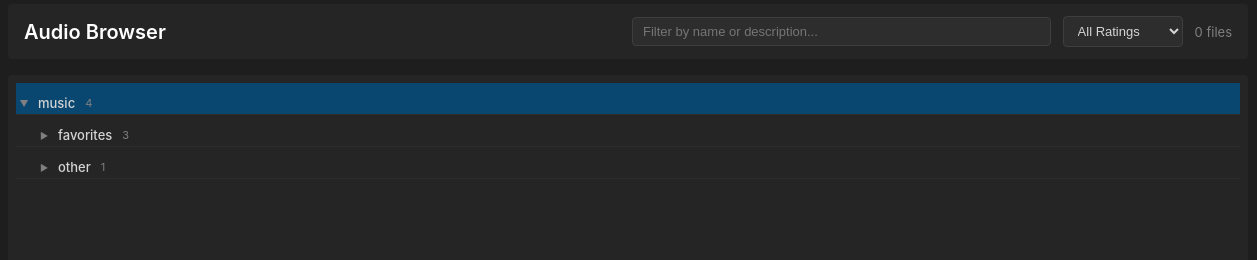
Test: AudioBrowser › shows all contents when folder name matches filter
Expected: the text "music" is shown, [38,96,75,110]
Note: Filter by folder name
In the field with placeholder "Filter by name or description...": (841, 32) [632,17,1051,46], type "favorites"
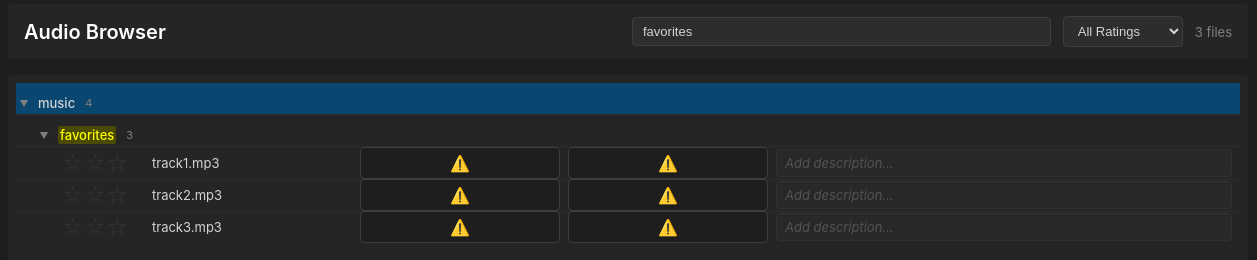
Expected: the text "favorites" is shown, [58,126,116,144]
Result: the text "other" is gone
Result: the text "3 files" is shown at [1195,24,1232,40]
